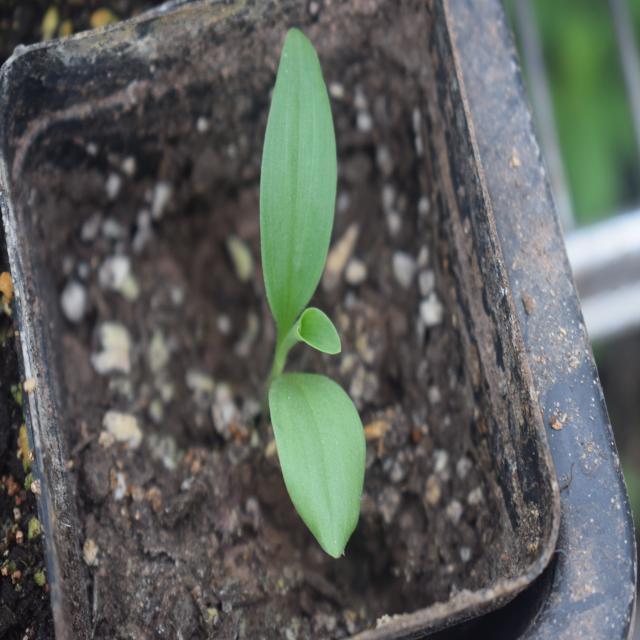Common Dayflower: (220, 9, 384, 529)
